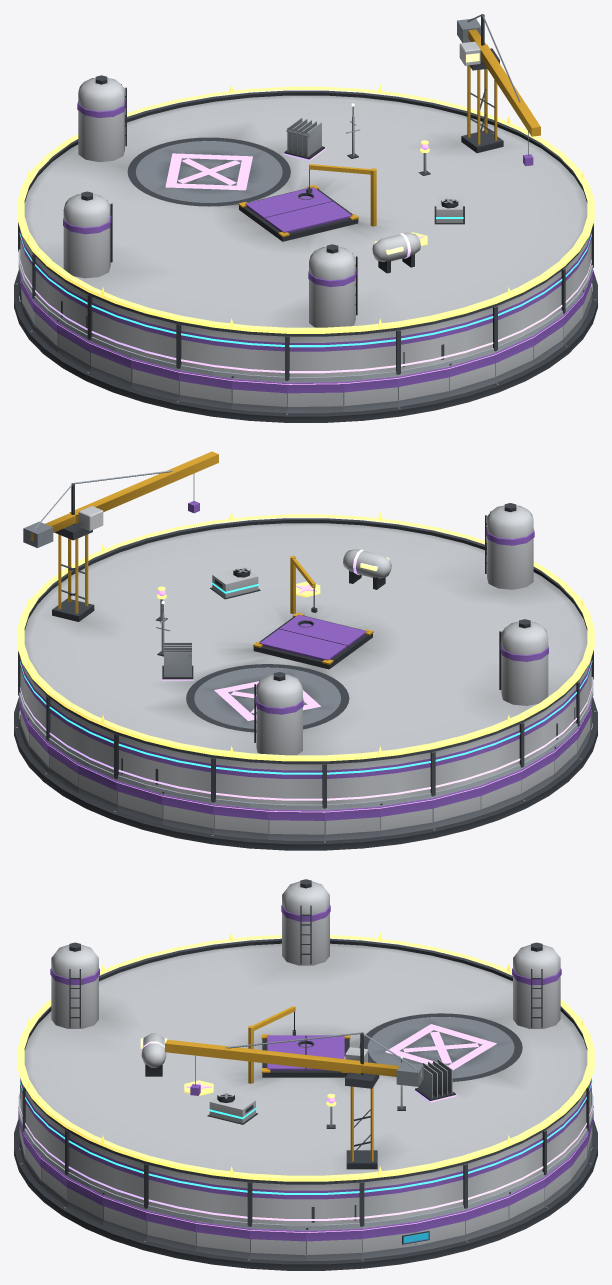
File: storehouse_l.glb
3 views of the same model, one above another, from view 1: azimuth 30°, elevation 25°; view 2: azimuth 150°, elevation 25°; view 3: azimuth 270°, elevation 25° (orthographic).
Visible parts, largest first — view 1: Roof, L5, Base, L4, Upper_22, Upper_21, Upper_20, Upper_19, Upper_23, Wall_21, Wall_20, Upper_18 (+19 smaller); view 2: Roof, L5, Base, L4, Upper_10, Upper_09, Upper_11, Upper_12, Upper_08, Wall_10, Upper_13, Wall_11 (+19 smaller); view 3: Roof, L5, Base, Upper_31, L4, Upper_00, Upper_01, Upper_30, Upper_02, Upper_29, Wall_00, Wall_31 (+21 smaller).
Boxes of the visible parts, x1,y1,x2,y2 form: Roof: (23,14,588,336); L5: (17,84,594,333); Base: (14,270,597,422); L4: (283,117,420,273); Upper_22: (343,330,398,375); Upper_21: (287,335,343,380); Upper_20: (232,332,286,380); Upper_19: (178,324,231,372); Upper_23: (398,320,448,373); Wall_21: (287,380,343,413); Wall_20: (231,376,287,413); Upper_18: (132,312,179,367); Roof: (23,451,587,764); L5: (17,512,594,761); Base: (14,697,597,850); L4: (162,549,391,680); Upper_10: (268,763,324,807); Upper_09: (213,758,268,803); Upper_11: (325,760,379,807); Upper_12: (380,752,433,800); Upper_08: (163,748,213,801); Wall_10: (268,808,324,840); Upper_13: (432,739,479,795); Wall_11: (324,805,380,840); Roof: (23,879,588,1184); L5: (17,932,594,1181); Base: (14,1120,597,1270); Upper_31: (249,1182,305,1226); L4: (140,1033,456,1102); Upper_00: (306,1182,362,1226); Upper_01: (362,1175,415,1225); Upper_30: (196,1175,249,1225); Upper_02: (415,1164,466,1215); Upper_29: (145,1164,196,1215); Wall_00: (306,1227,361,1260); Wall_31: (250,1227,305,1260).
Bounding box in the file's own units: 20.76 × 8.43 × 20.76.
